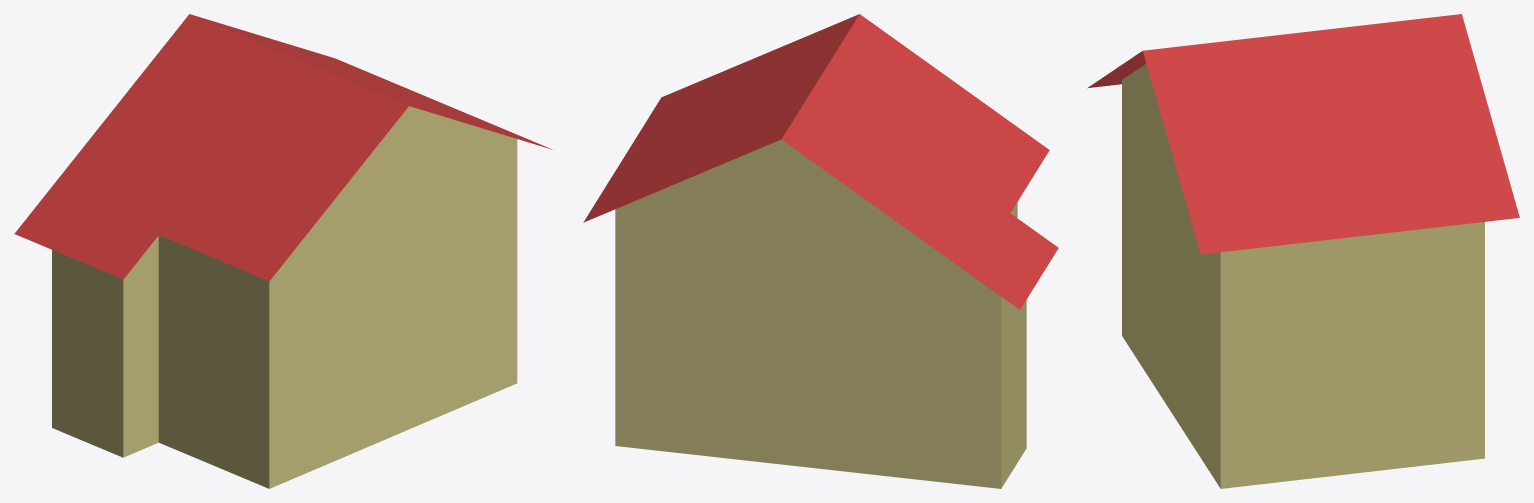
3 renders of one model, left to right at view 1: azimuth 30°, elevation 25°; view 2: azimuth 150°, elevation 25°; view 3: azimuth 270°, elevation 25°, orthographic. The views are drawn at different scales.
Bounding box in the file's own units: 14.72 × 11.45 × 10.59.
